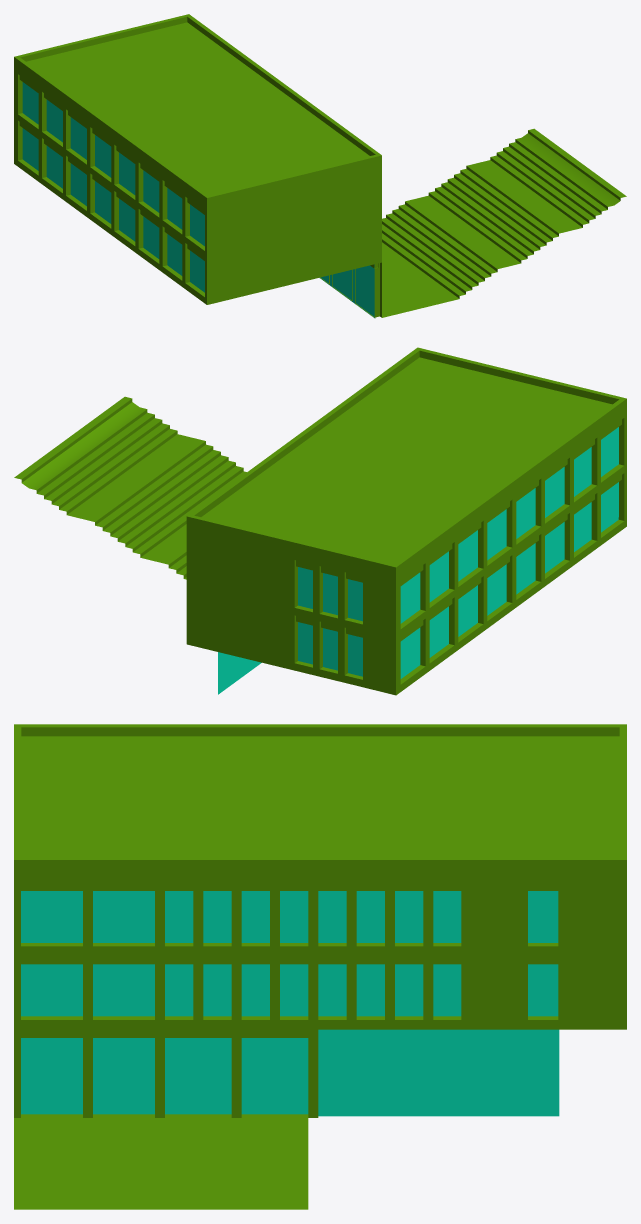
The model's file is SM_Bld_Blok1_01a.fbx.
The picture shows the model from 3 angles, top to bottom: view 1: azimuth 30°, elevation 25°; view 2: azimuth 150°, elevation 25°; view 3: azimuth 270°, elevation 25°; orthographic projection. The views are drawn at different scales.
Visible parts, largest first — view 1: SM_Bld_Blok2_01a; view 2: SM_Bld_Blok2_01a; view 3: SM_Bld_Blok2_01a.
Part boxes in pixels (x1,y1,x2,y2): SM_Bld_Blok2_01a: (14,14,626,318); SM_Bld_Blok2_01a: (14,347,626,695); SM_Bld_Blok2_01a: (14,724,626,1209).
Bounding box in the file's own units: 2921 × 1089 × 2325.
